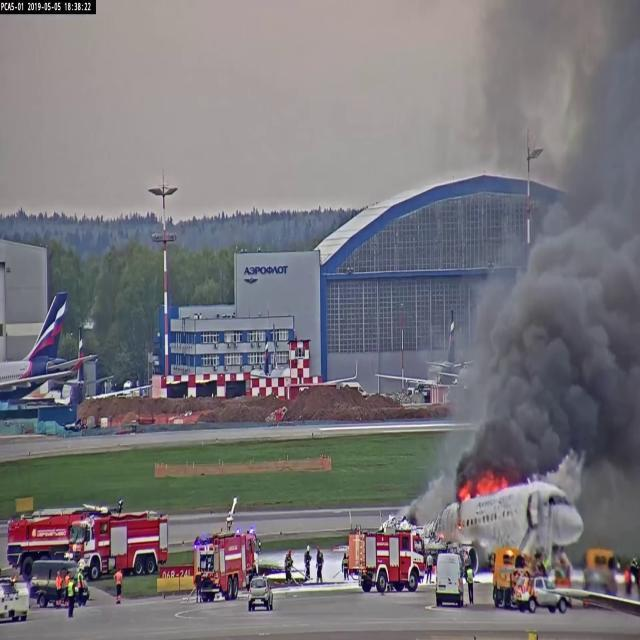Fire: (458, 478, 506, 504)
Smoke: (480, 225, 638, 457)
